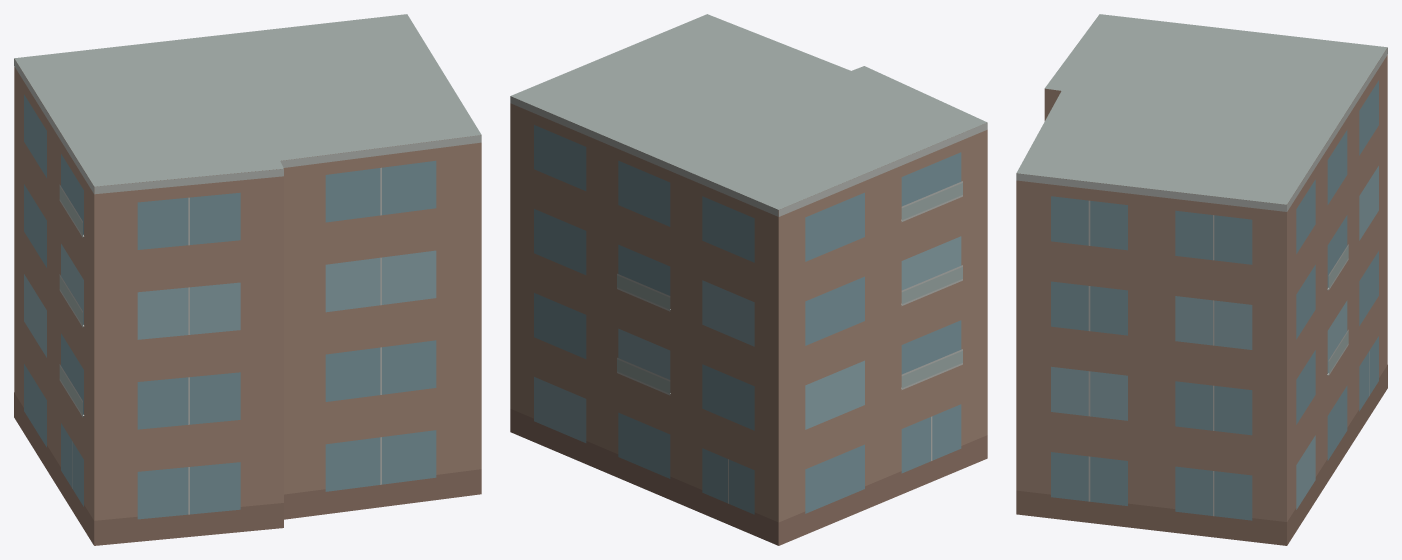
The model's file is survey-upis-33019725.glb.
3 views of the same model, side by side, from view 1: azimuth 30°, elevation 25°; view 2: azimuth 150°, elevation 25°; view 3: azimuth 270°, elevation 25° (orthographic). The views are drawn at different scales.
Parts seen in each view (by area): view 1: survey-upis-33019725.tmp; view 2: survey-upis-33019725.tmp; view 3: survey-upis-33019725.tmp.
Part boxes in pixels (left/top/right/bottom): survey-upis-33019725.tmp: left=14, top=14, right=481, bottom=545; survey-upis-33019725.tmp: left=510, top=14, right=987, bottom=545; survey-upis-33019725.tmp: left=1016, top=14, right=1387, bottom=545.
Size of the model in its own units: 13.8 by 11.5 by 11.36.
